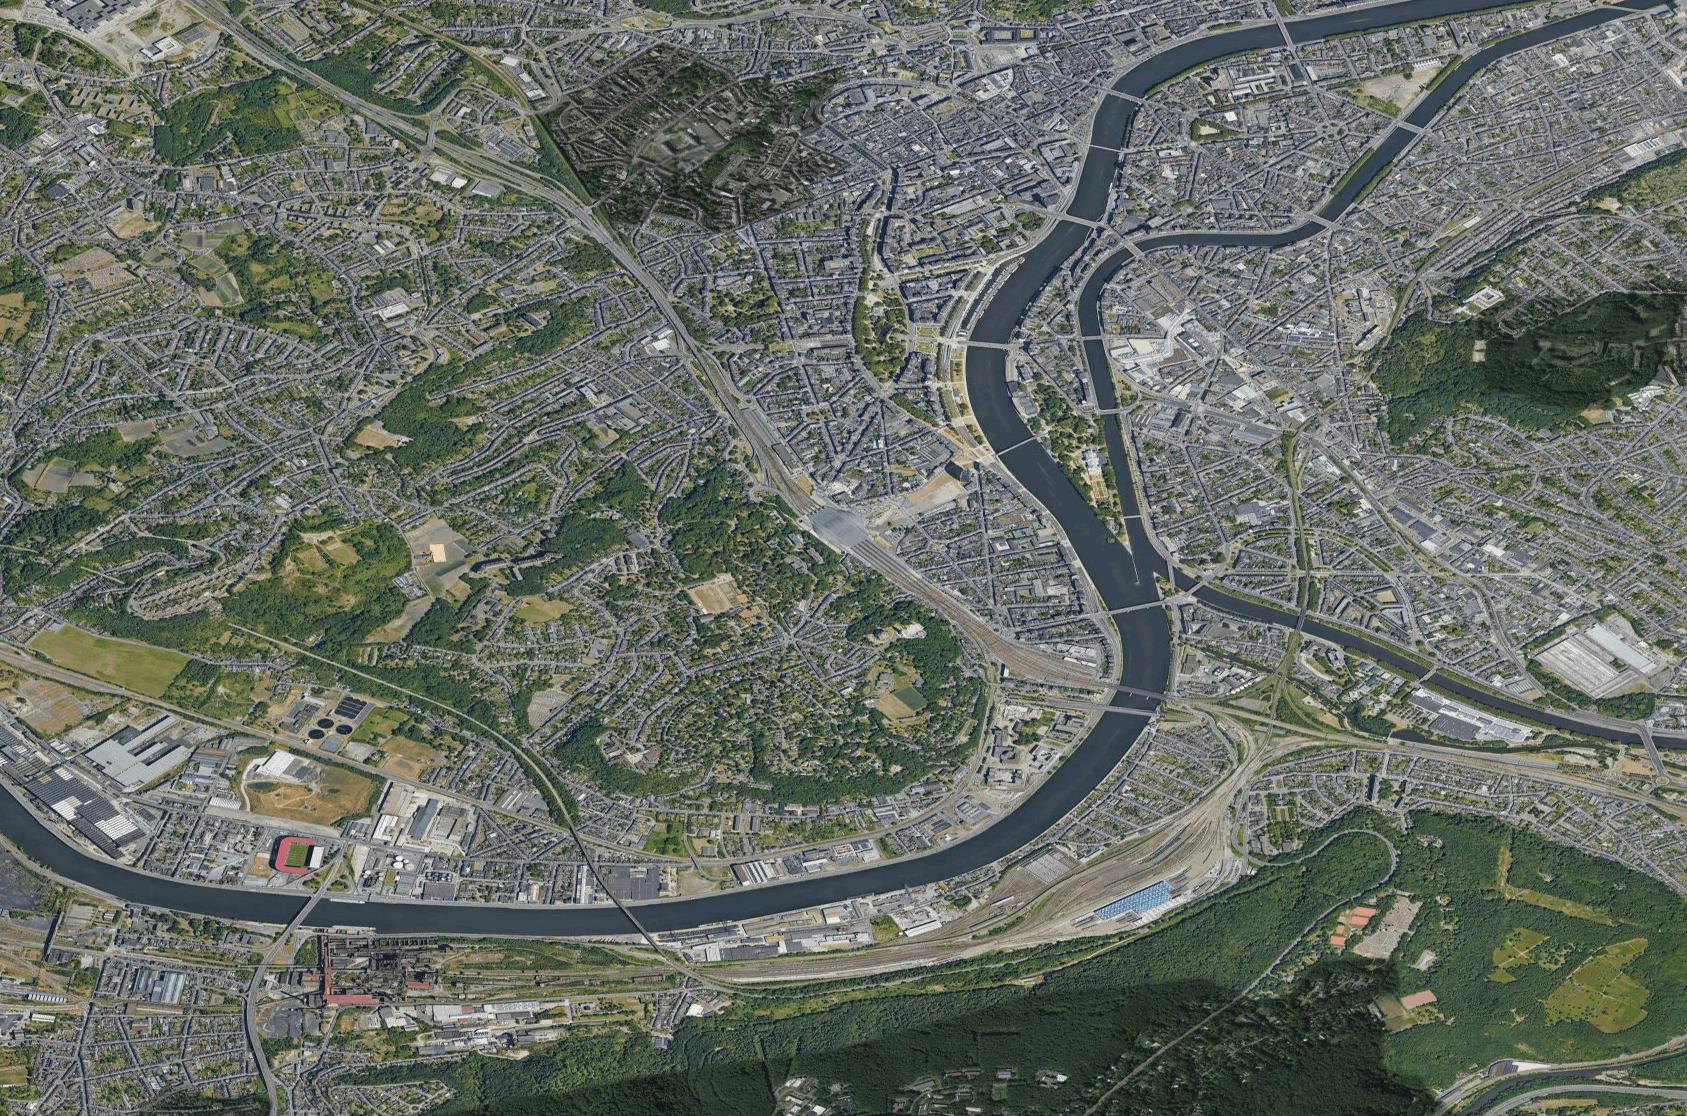bridge: (1104, 590, 1167, 620), (991, 431, 1040, 460), (288, 892, 320, 930), (1103, 699, 1155, 721), (1113, 679, 1165, 701), (966, 335, 1013, 357), (1053, 208, 1101, 230), (618, 901, 647, 935), (1116, 237, 1149, 262), (1392, 111, 1426, 135), (1076, 325, 1109, 349), (1092, 396, 1125, 420), (1302, 207, 1335, 230), (1275, 17, 1300, 45), (1107, 86, 1142, 105), (1087, 138, 1122, 154)
industrial: (2, 721, 203, 864)
motorway: (1485, 1077, 1589, 1116), (1592, 1071, 1687, 1101)
train_station: (791, 494, 881, 556)
